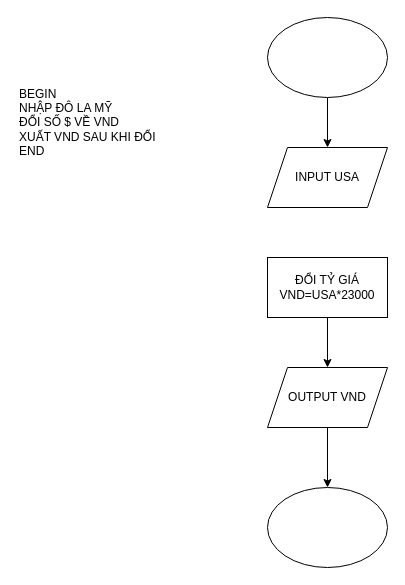
This 405x585 diagram has some shape labels left out. The centre of each missing label's shape, as x and y in pixels:
BEGIN: the point at 327,57
END: the point at 327,527
